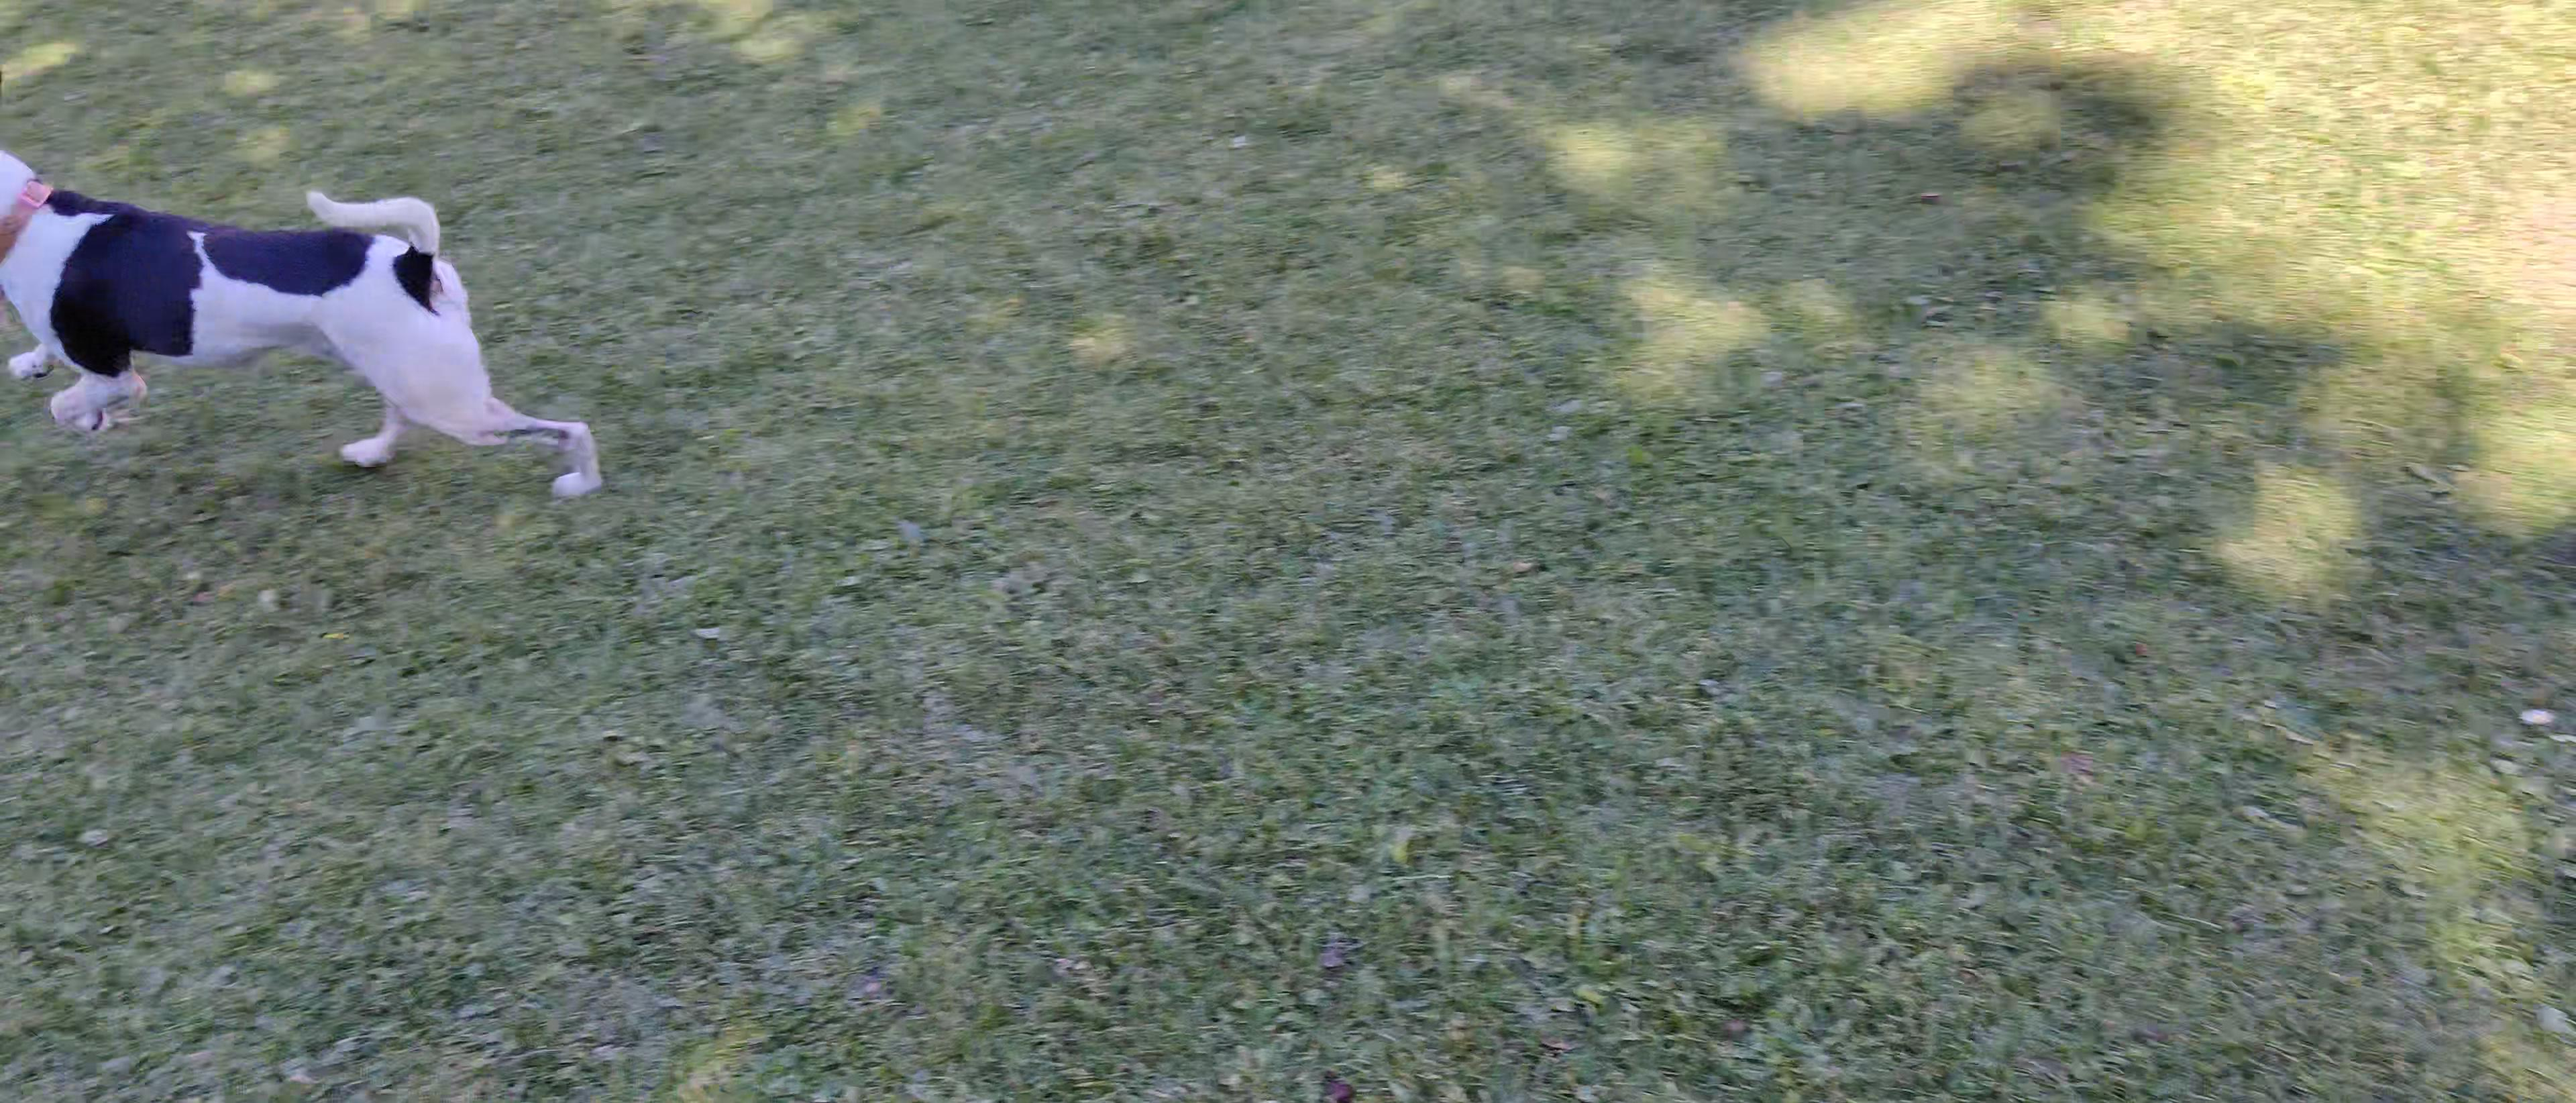Dog: (0, 130, 626, 498)
